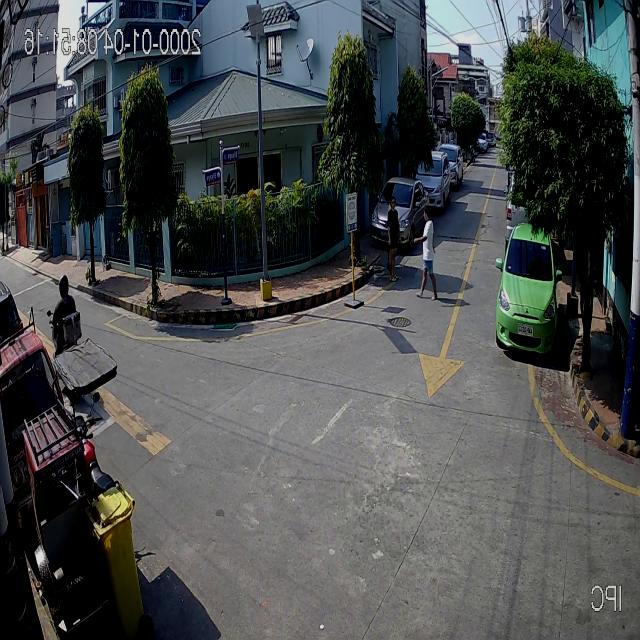standing: (386, 195, 402, 282)
walking: (413, 205, 437, 301)
